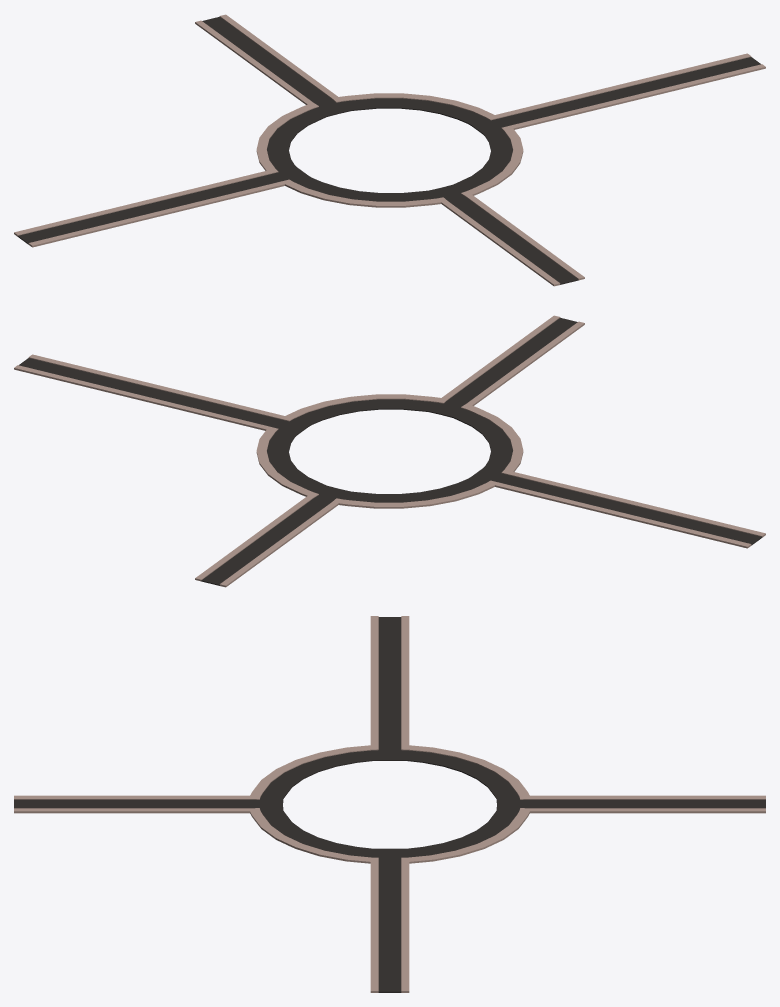
The model's file is Calle.FBX.
3 renders of one model, top to bottom at view 1: azimuth 30°, elevation 25°; view 2: azimuth 150°, elevation 25°; view 3: azimuth 270°, elevation 25°, orthographic. The views are drawn at different scales.
Parts seen in each view (by area): view 1: Calles; view 2: Calles; view 3: Calles.
Part boxes in pixels (x1,y1,x2,y2): Calles: (14,14,765,286); Calles: (14,315,765,587); Calles: (14,616,765,992).
Size of the model in its own units: 598 by 1.33 by 507.
